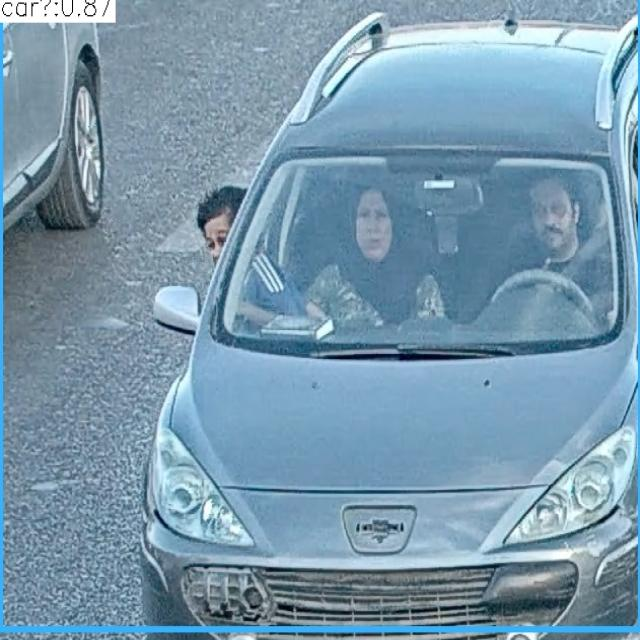windshield: (222, 156, 626, 344)
